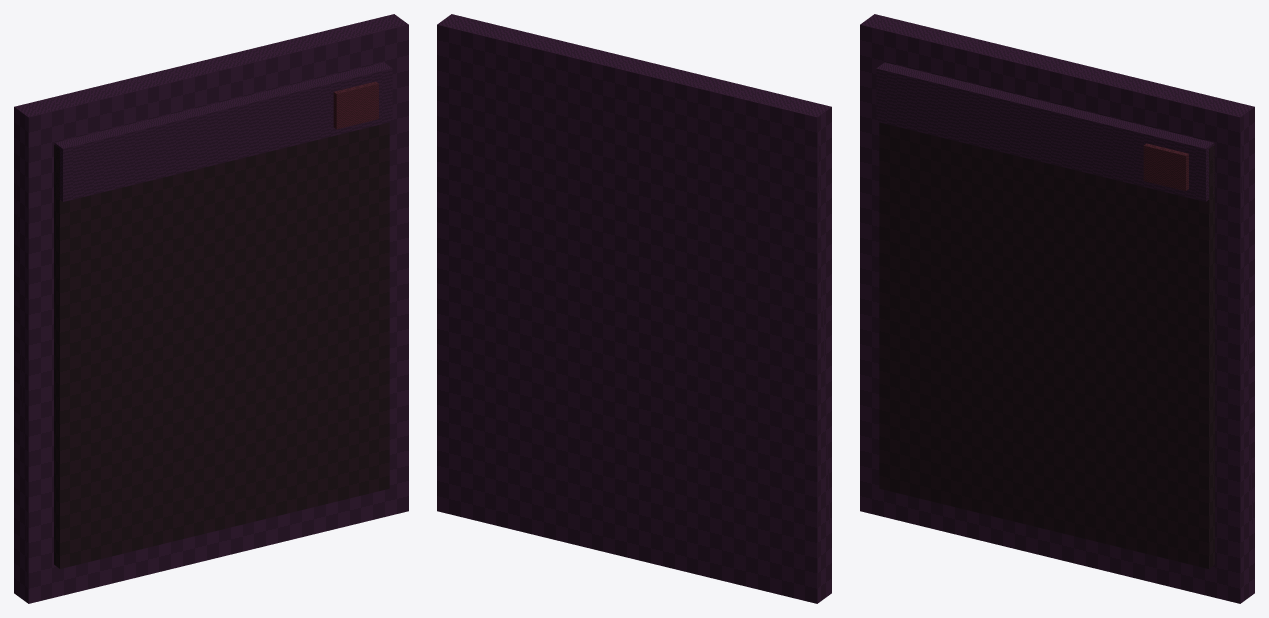
File: slack_panel.glb
3 views of the same model, side by side, from view 1: azimuth 30°, elevation 25°; view 2: azimuth 150°, elevation 25°; view 3: azimuth 330°, elevation 25° (orthographic).
Parts seen in each view (by area): view 1: slack_panel; view 2: slack_panel; view 3: slack_panel.
Part boxes in pixels (x1=…): slack_panel: x1=14, y1=14, x2=408, y2=603; slack_panel: x1=437, y1=14, x2=831, y2=603; slack_panel: x1=860, y1=14, x2=1254, y2=603.
Bounding box in the file's own units: 0.9 × 1.1 × 0.11.
1 material, 1 textured.
